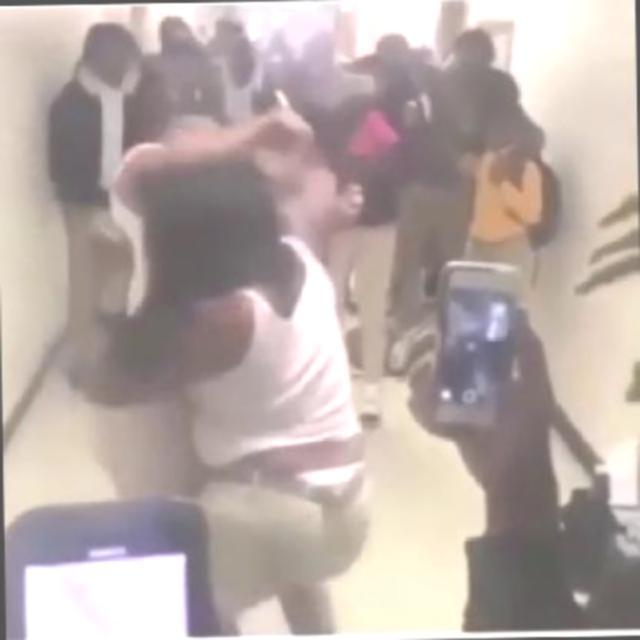fight: (80, 102, 372, 526)
